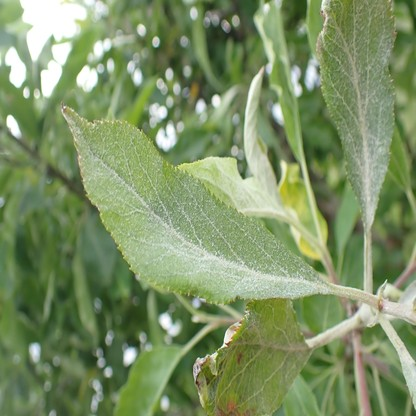powder: (59, 107, 331, 303), (316, 2, 397, 231), (246, 306, 258, 328)
rust: (228, 401, 236, 410)
